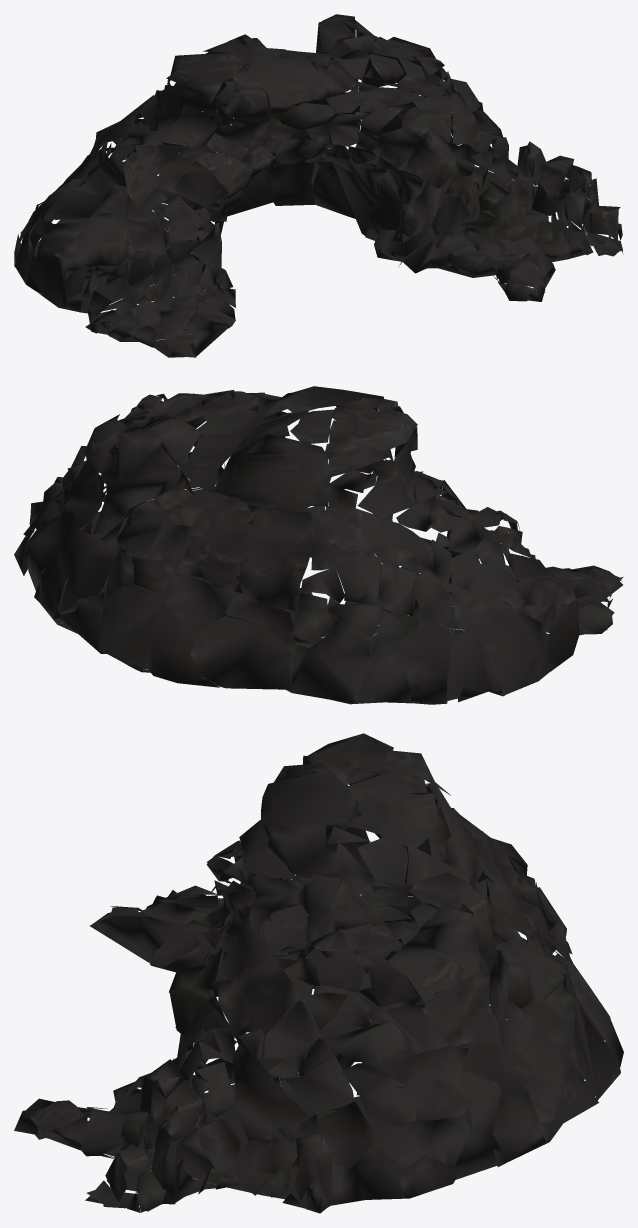
Rendered from Basalt_Arch_town.glb.
3 views of the same model, one above another, from view 1: azimuth 30°, elevation 25°; view 2: azimuth 150°, elevation 25°; view 3: azimuth 270°, elevation 25° (orthographic). The views are drawn at different scales.
Visible parts, largest first — view 1: Basalt_Arch; view 2: Basalt_Arch; view 3: Basalt_Arch.
Boxes of the visible parts, <box> form: Basalt_Arch: <box>14,14,623,357</box>; Basalt_Arch: <box>14,386,623,704</box>; Basalt_Arch: <box>14,733,623,1213</box>.
Bounding box in the file's own units: 1.88 × 0.7019 × 1.52.
1 material, 1 textured.
